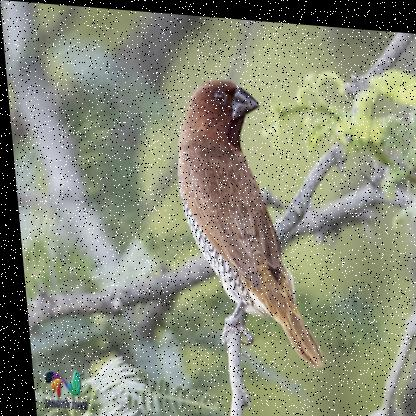Burung: (168, 72, 318, 361)
